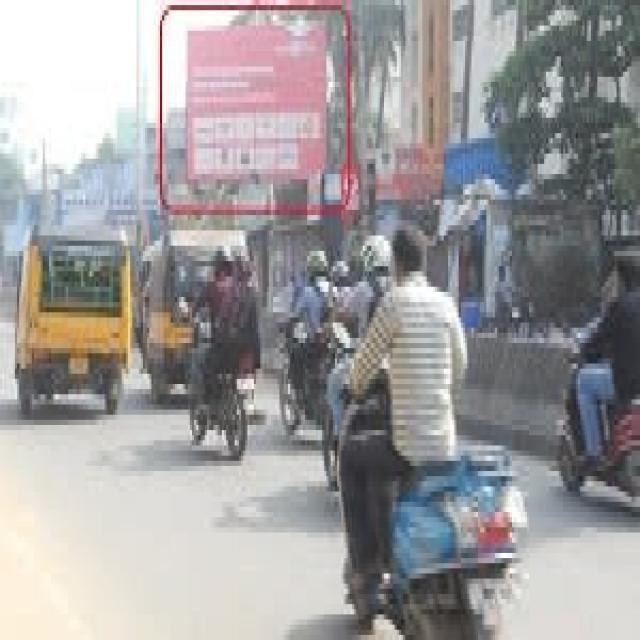Werbetafel frei: (186, 30, 329, 176)
